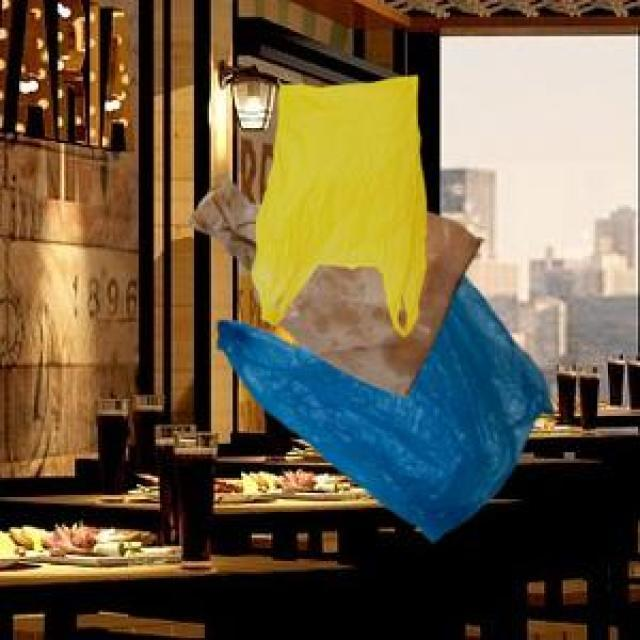paper: (184, 171, 480, 395)
